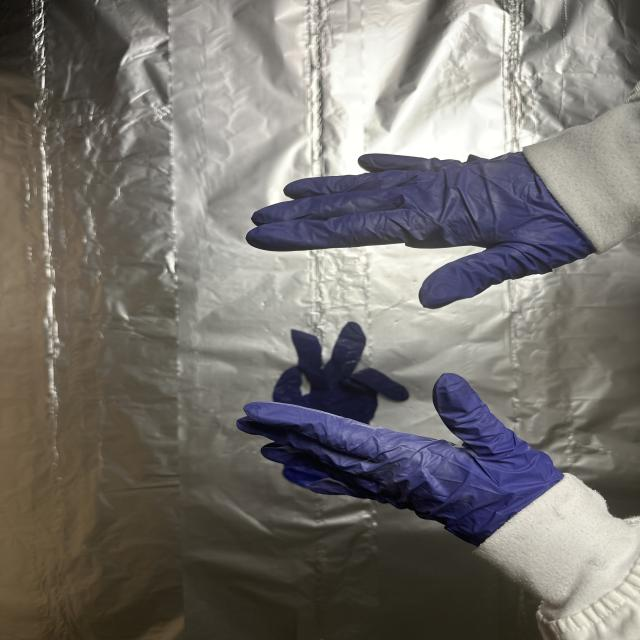gloves_contaminated: (238, 374, 562, 543), (246, 153, 595, 309)
